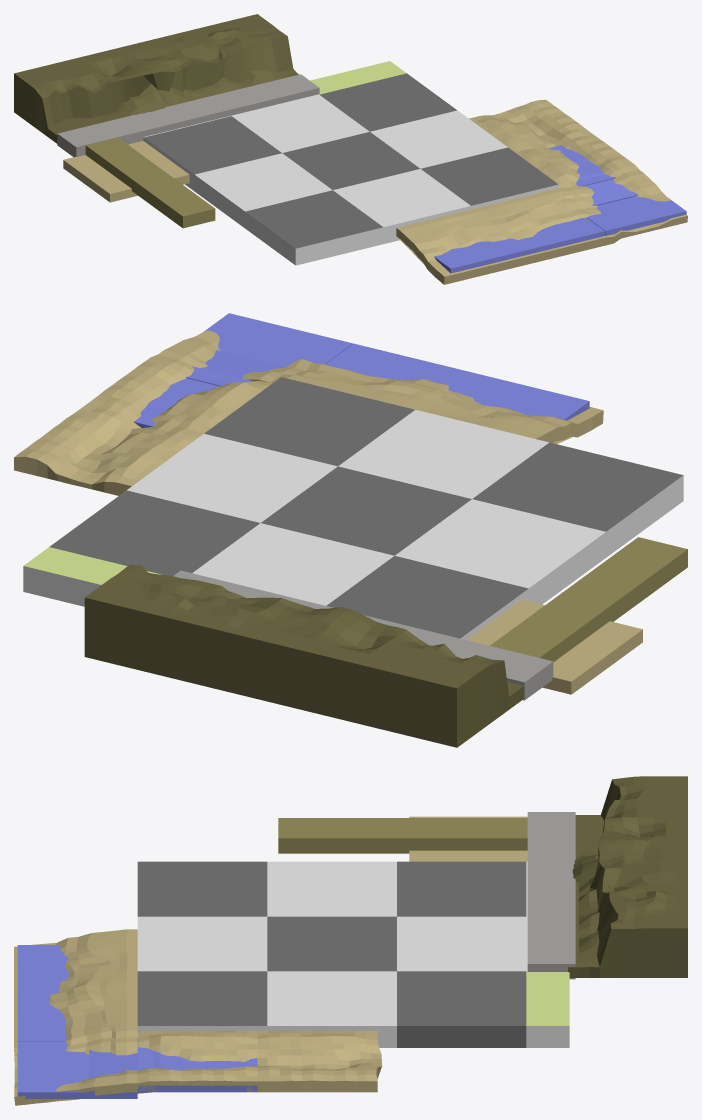
The model's file is map1v3_proto.fbx.
The picture shows the model from 3 angles, top to bottom: view 1: azimuth 30°, elevation 25°; view 2: azimuth 150°, elevation 25°; view 3: azimuth 270°, elevation 25°; orthographic projection. The views are drawn at different scales.
Parts seen in each view (by area): view 1: PLANE, BACKcliffs, BEACH, SIDEriver.001, WHARF, DOCK, sideDOCK, FRONTwater.002, FRONTwater.001, FRONTwater, SIDEriver, whiteWater; view 2: PLANE, BACKcliffs, SIDEriver.001, DOCK, BEACH, sideDOCK, FRONTwater.002, WHARF, FRONTwater.001, FRONTwater, whiteWater, SIDEriver; view 3: PLANE, BACKcliffs, SIDEriver.001, BEACH, DOCK, WHARF, FRONTwater.002, FRONTwater, whiteWater, FRONTwater.001, sideDOCK, SIDEriver.
Boxes of the visible parts, bbox=[...] form: PLANE: bbox=[143, 61, 558, 265]; BACKcliffs: bbox=[14, 14, 298, 143]; BEACH: bbox=[396, 170, 687, 284]; SIDEriver.001: bbox=[469, 99, 639, 187]; WHARF: bbox=[57, 74, 319, 157]; DOCK: bbox=[85, 137, 215, 228]; sideDOCK: bbox=[63, 141, 189, 202]; FRONTwater.002: bbox=[587, 196, 686, 235]; FRONTwater.001: bbox=[434, 238, 531, 273]; FRONTwater: bbox=[508, 217, 604, 253]; SIDEriver: bbox=[577, 171, 638, 205]; whiteWater: bbox=[549, 145, 616, 186]; PLANE: bbox=[23, 377, 683, 639]; BACKcliffs: bbox=[84, 564, 523, 747]; SIDEriver.001: bbox=[14, 354, 272, 495]; DOCK: bbox=[490, 537, 687, 661]; BEACH: bbox=[158, 330, 603, 443]; sideDOCK: bbox=[466, 599, 642, 694]; FRONTwater.002: bbox=[203, 313, 353, 366]; WHARF: bbox=[173, 570, 553, 700]; FRONTwater.001: bbox=[448, 371, 589, 420]; FRONTwater: bbox=[326, 343, 477, 391]; whiteWater: bbox=[133, 366, 251, 427]; SIDEriver: bbox=[185, 350, 287, 386]; PLANE: bbox=[137, 861, 569, 1047]; BACKcliffs: bbox=[568, 776, 687, 977]; SIDEriver.001: bbox=[137, 1030, 382, 1092]; BEACH: bbox=[14, 929, 137, 1105]; DOCK: bbox=[278, 818, 527, 853]; WHARF: bbox=[527, 812, 575, 979]; FRONTwater.002: bbox=[17, 1041, 137, 1098]; FRONTwater: bbox=[17, 990, 66, 1041]; whiteWater: bbox=[137, 1042, 257, 1092]; FRONTwater.001: bbox=[17, 945, 69, 990]; sideDOCK: bbox=[409, 816, 527, 861]; SIDEriver: bbox=[89, 1049, 160, 1096].
Bounding box in the file's own units: 1416 × 203 × 1524.
